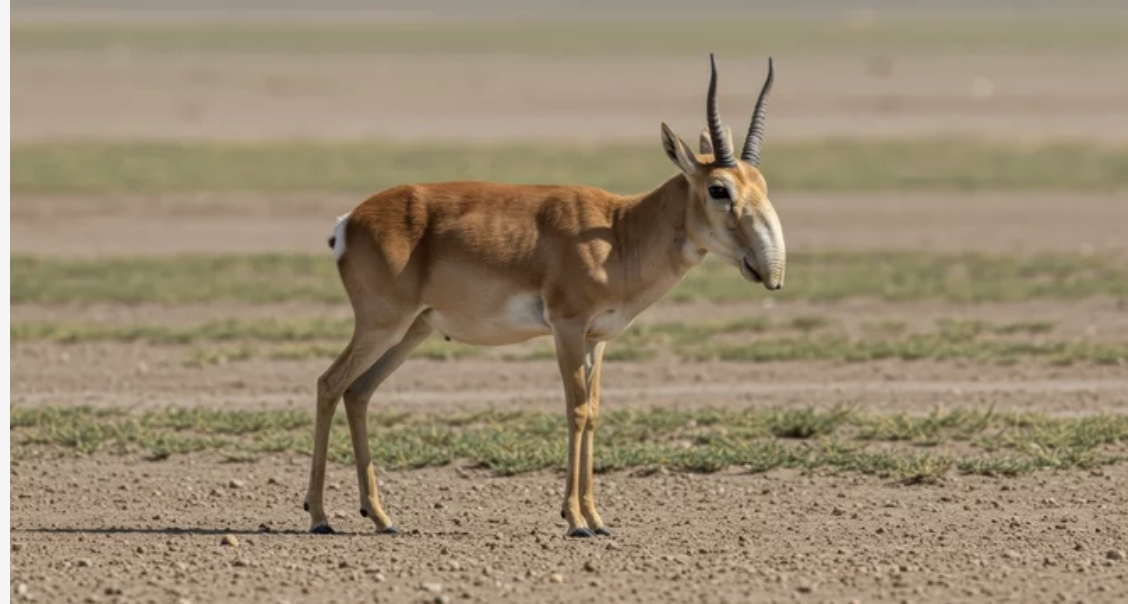saiga: (290, 45, 798, 576)
